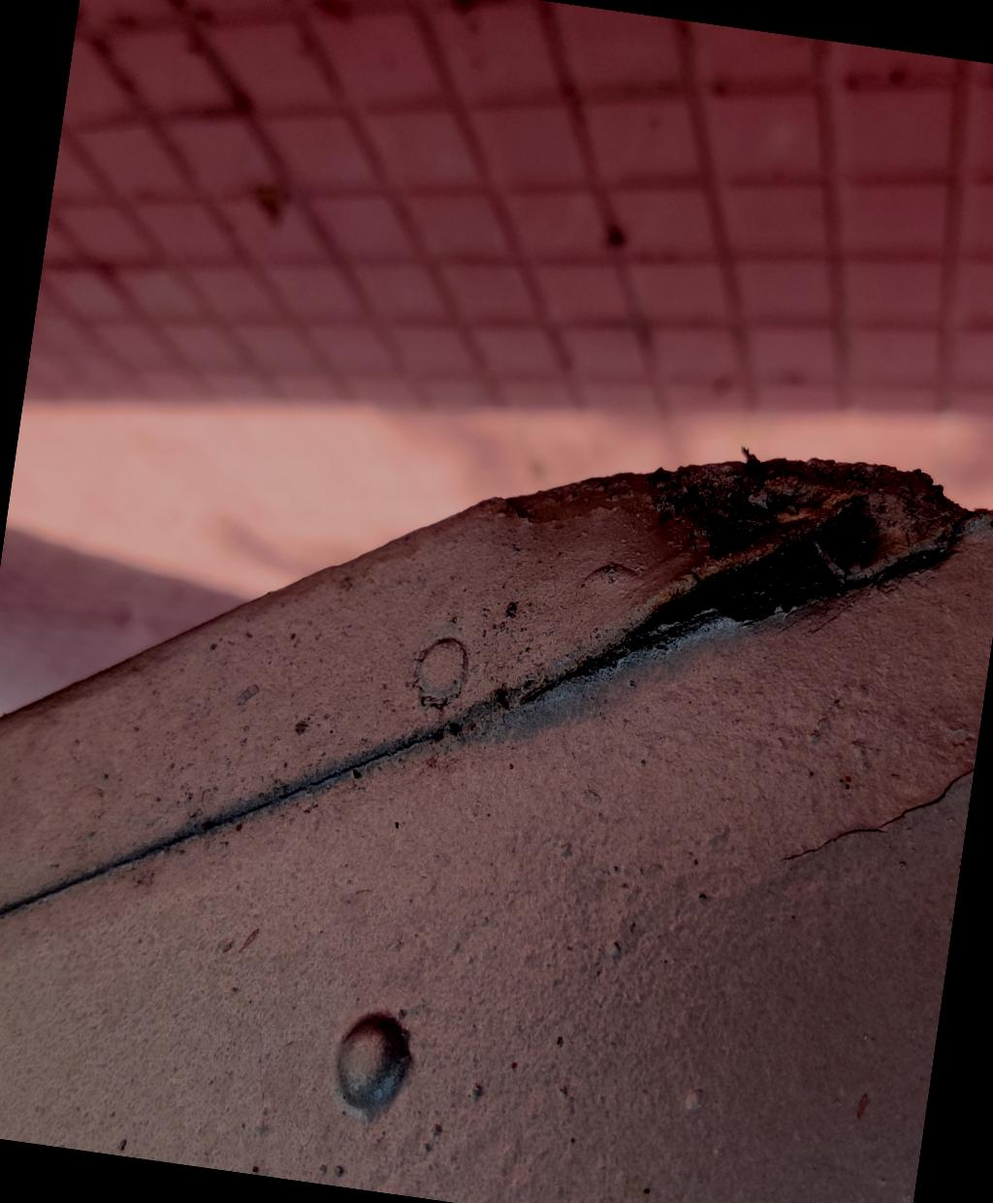crack: (600, 428, 941, 745)
